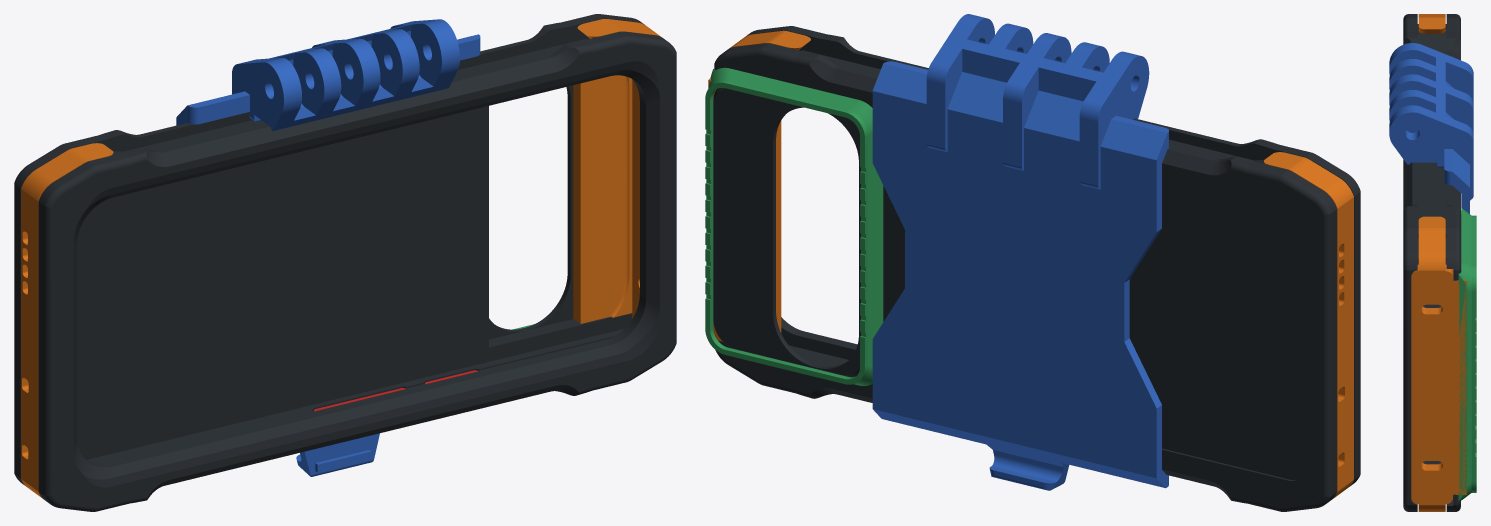
Rendered from pixel9pro_assembly.obj.
3 renders of one model, left to right at view 1: azimuth 30°, elevation 25°; view 2: azimuth 150°, elevation 25°; view 3: azimuth 270°, elevation 25°, orthographic. The views are drawn at different scales.
Visible parts, largest first — view 1: case, molle_adapter, top_cap, bottom_cap; view 2: molle_adapter, case, camera_protector_cap, bottom_cap, top_cap; view 3: top_cap, molle_adapter, case, camera_protector_cap, bottom_cap.
Part boxes in pixels (box(x1,y1,x2,y2)): case: box(14, 14, 676, 511); molle_adapter: box(176, 19, 480, 476); top_cap: box(573, 19, 660, 323); bottom_cap: box(21, 143, 113, 498); molle_adapter: box(872, 14, 1168, 490); case: box(713, 26, 1360, 511); camera_protector_cap: box(705, 67, 883, 385); bottom_cap: box(1264, 152, 1353, 498); top_cap: box(708, 30, 810, 341); top_cap: box(1411, 216, 1466, 511); molle_adapter: box(1389, 43, 1473, 213); case: box(1403, 14, 1461, 511); camera_protector_cap: box(1458, 208, 1476, 500); bottom_cap: box(1418, 14, 1445, 33).
Bounding box in the file's own units: 164 × 109 × 24.34.
